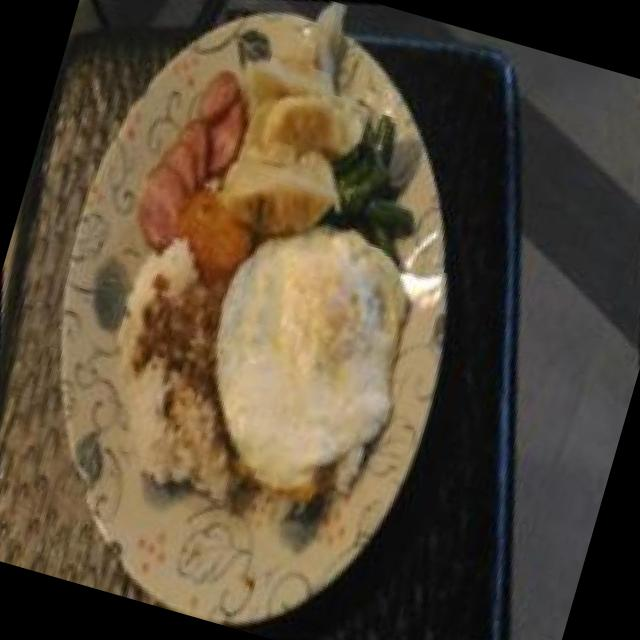chinese_sausage: (92, 39, 286, 276)
fried_dumplings: (184, 0, 415, 266)
fried_eggs: (146, 172, 473, 542)
rice: (49, 215, 282, 529)
triangle_hash_brown: (150, 166, 272, 300)
